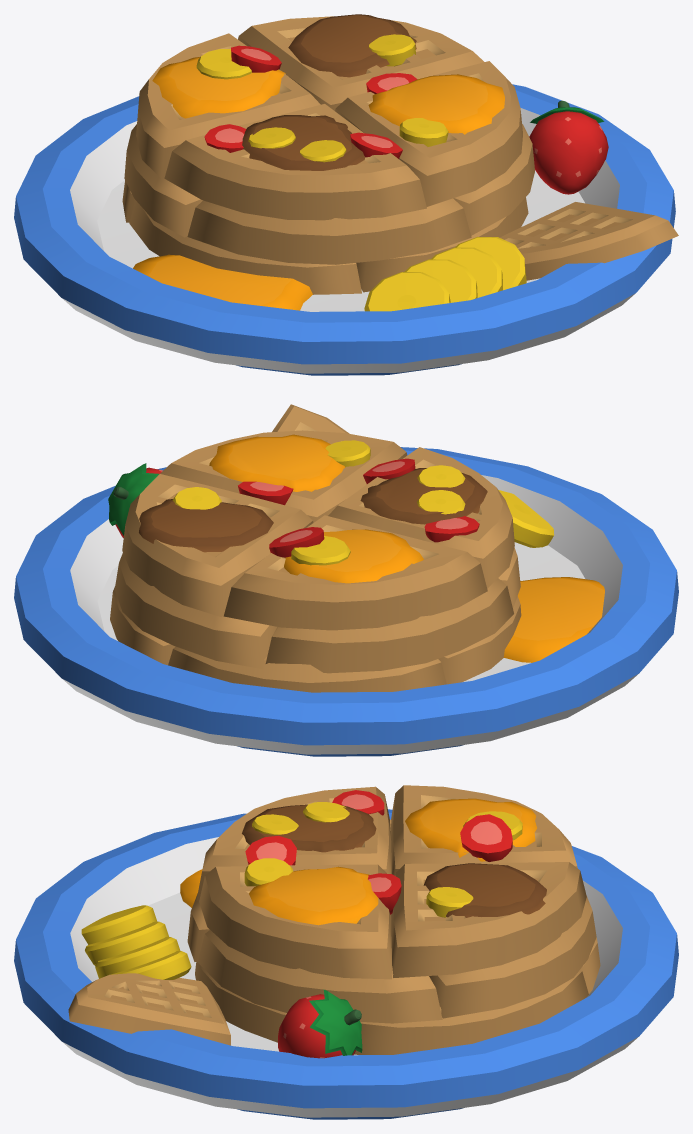
Rendered from Dish_6_LV7.glb.
3 views of the same model, one above another, from view 1: azimuth 30°, elevation 25°; view 2: azimuth 150°, elevation 25°; view 3: azimuth 270°, elevation 25° (orthographic).
Parts seen in each view (by area): view 1: Dish_6_LV7; view 2: Dish_6_LV7; view 3: Dish_6_LV7.
Boxes of the visible parts, bbox=[...] form: Dish_6_LV7: bbox=[14, 14, 678, 375]; Dish_6_LV7: bbox=[14, 404, 678, 756]; Dish_6_LV7: bbox=[14, 785, 678, 1119].
Size of the model in its own units: 0.4347 by 0.1296 by 0.4352.
2 materials, 2 textured.
